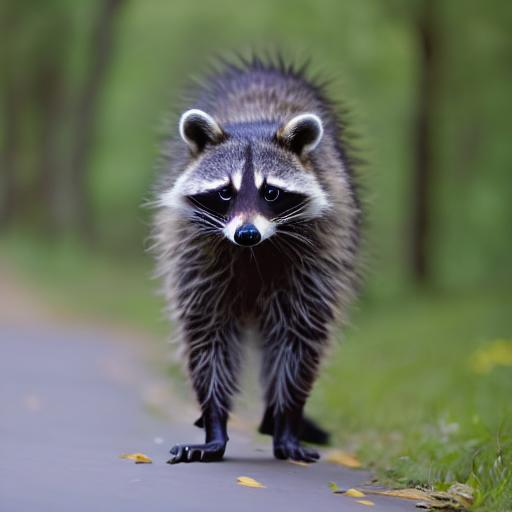raccoon: (147, 65, 370, 374)
